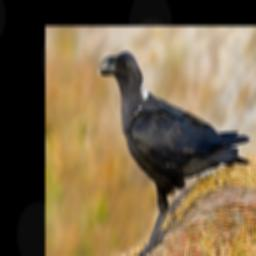Crow: (96, 51, 251, 256)
